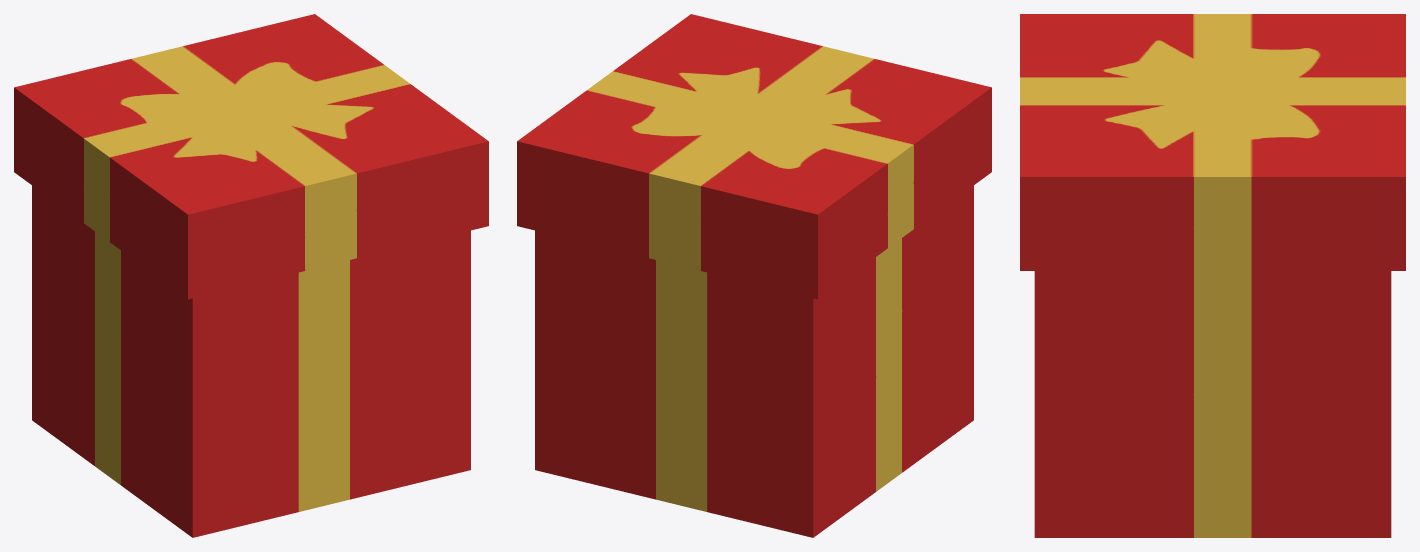
File: SM_GiftBox.FBX
3 views of the same model, side by side, from view 1: azimuth 30°, elevation 25°; view 2: azimuth 150°, elevation 25°; view 3: azimuth 270°, elevation 25° (orthographic). The views are drawn at different scales.
Parts seen in each view (by area): view 1: giftbox; view 2: giftbox; view 3: giftbox.
Boxes of the visible parts, bbox=[...] form: giftbox: bbox=[14, 14, 488, 537]; giftbox: bbox=[517, 14, 991, 537]; giftbox: bbox=[1020, 14, 1405, 537].
Bounding box in the file's own units: 54.07 × 56.83 × 54.14.
